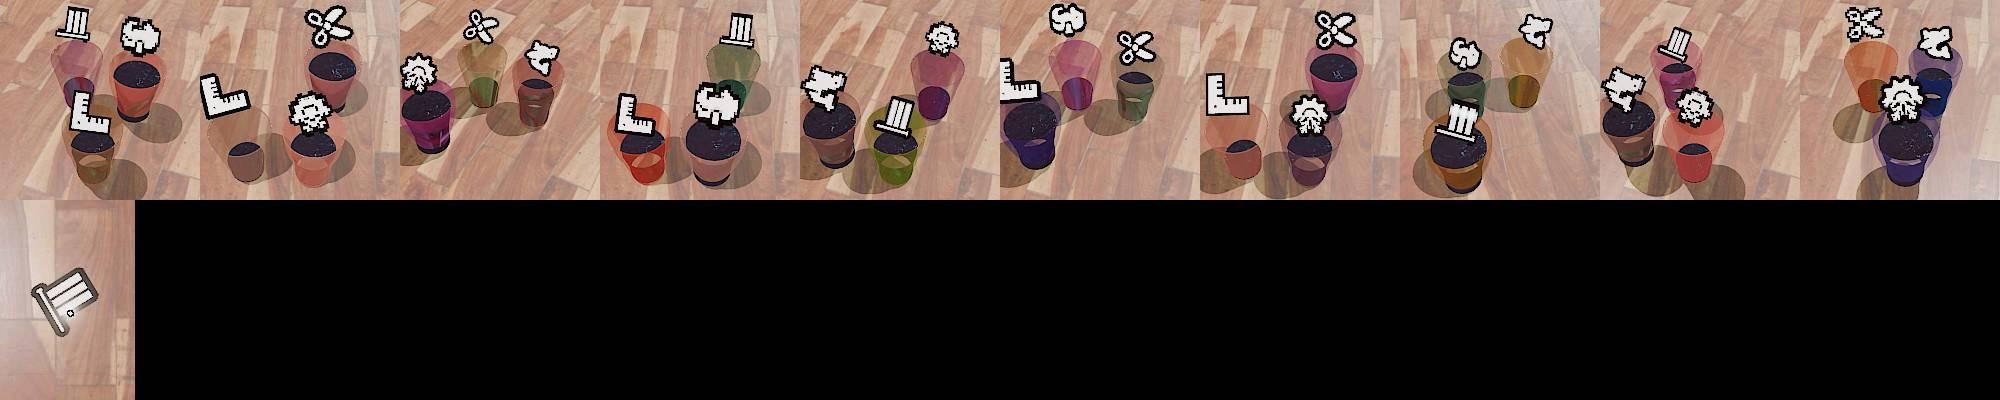icon: (31, 262, 102, 336), (198, 71, 251, 120), (691, 80, 744, 127), (800, 64, 847, 112), (1879, 74, 1927, 121), (304, 4, 352, 50), (1602, 65, 1647, 113), (68, 89, 112, 136), (287, 90, 335, 134), (997, 57, 1041, 104), (614, 90, 657, 136), (1205, 71, 1249, 116), (874, 94, 917, 138), (1314, 9, 1356, 51), (119, 15, 161, 56), (1290, 92, 1329, 135), (1444, 98, 1482, 140), (401, 52, 437, 96), (1844, 5, 1884, 43), (1675, 88, 1714, 126), (55, 5, 93, 43), (1518, 11, 1555, 51), (717, 11, 756, 48), (1116, 29, 1156, 66), (523, 38, 560, 76), (1047, 3, 1087, 38), (1658, 25, 1695, 62), (1918, 24, 1955, 60), (464, 9, 500, 45), (925, 19, 959, 55), (1448, 37, 1482, 70)
